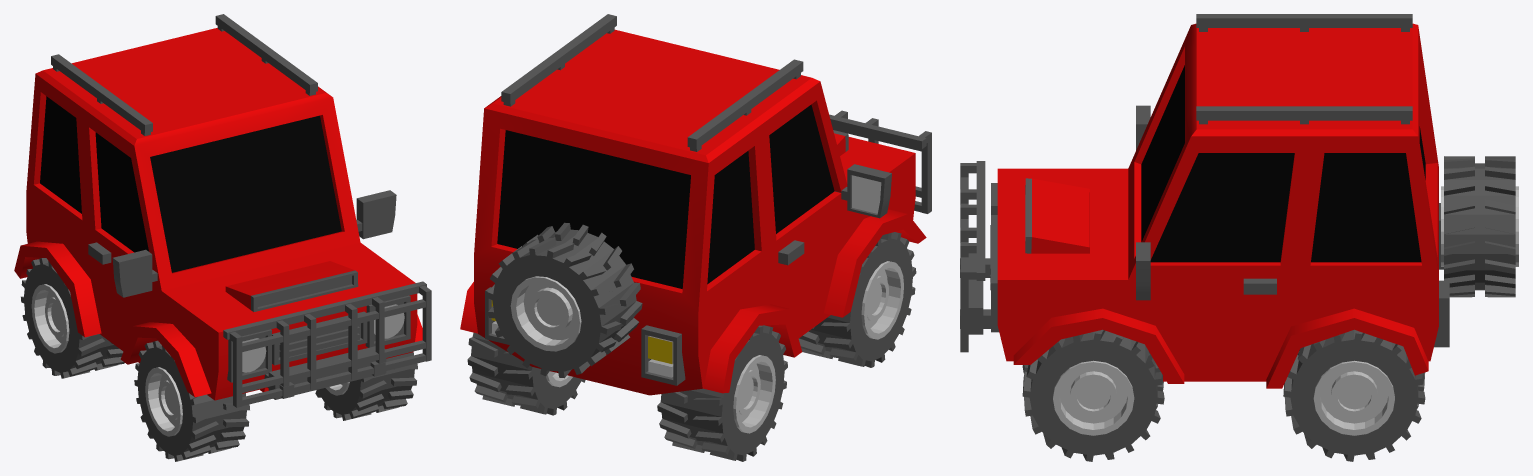
File: car.fbx
3 views of the same model, side by side, from view 1: azimuth 30°, elevation 25°; view 2: azimuth 150°, elevation 25°; view 3: azimuth 270°, elevation 25° (orthographic). The views are drawn at different scales.
Visible parts, largest first — view 1: carbody6, rightF, rightB, leftF, pCube7 (×3), mudGuardB, mudGuardF, pCube16, pCube30, pCube29, pCube1, pCube2 (+11 smaller); view 2: carbody6, tier19, rightB, rightF, leftB, mudGuardB, mudGuardF, pCube29, pCube30, pCube1, light1, pCube16 (+2 smaller); view 3: carbody6, leftF, leftB, tier19, mudGuardB, mudGuardF2, pCube30, pCube29, pCube16, pCube11, pCube2, pCube24 (+2 smaller).
Part boxes in pixels (x1,y1,x2,y2): carbody6: (26, 28, 417, 400); rightF: (134, 340, 249, 461); rightB: (21, 258, 124, 378); leftF: (315, 352, 417, 420); pCube7 (×3): (227, 295, 410, 382); mudGuardB: (14, 241, 101, 337); mudGuardF: (120, 322, 211, 397); pCube16: (223, 281, 426, 339); pCube30: (215, 14, 317, 95); pCube29: (51, 54, 152, 135); pCube1: (112, 249, 157, 297); pCube2: (356, 190, 396, 239); carbody6: (474, 29, 915, 395); tier19: (486, 222, 642, 378); rightB: (657, 325, 787, 461); rightF: (798, 232, 916, 367); leftB: (467, 332, 585, 415); mudGuardB: (460, 282, 802, 393); mudGuardF: (824, 209, 926, 317); pCube29: (687, 59, 803, 151); pCube30: (501, 14, 616, 106); pCube1: (835, 164, 891, 218); light1: (641, 325, 685, 385); pCube16: (829, 114, 926, 148); carbody6: (997, 23, 1438, 381); leftF: (1022, 329, 1164, 461); leftB: (1283, 329, 1425, 461); tier19: (1441, 156, 1518, 297); mudGuardB: (1266, 308, 1428, 388); mudGuardF2: (1013, 308, 1184, 383); pCube30: (1196, 106, 1412, 124); pCube29: (1196, 14, 1412, 31); pCube16: (976, 161, 985, 280); pCube11: (968, 253, 983, 334); pCube2: (1136, 242, 1150, 300); pCube24: (960, 269, 976, 352).
Size of the model in its own units: 2.5 by 2.53 by 3.8.
